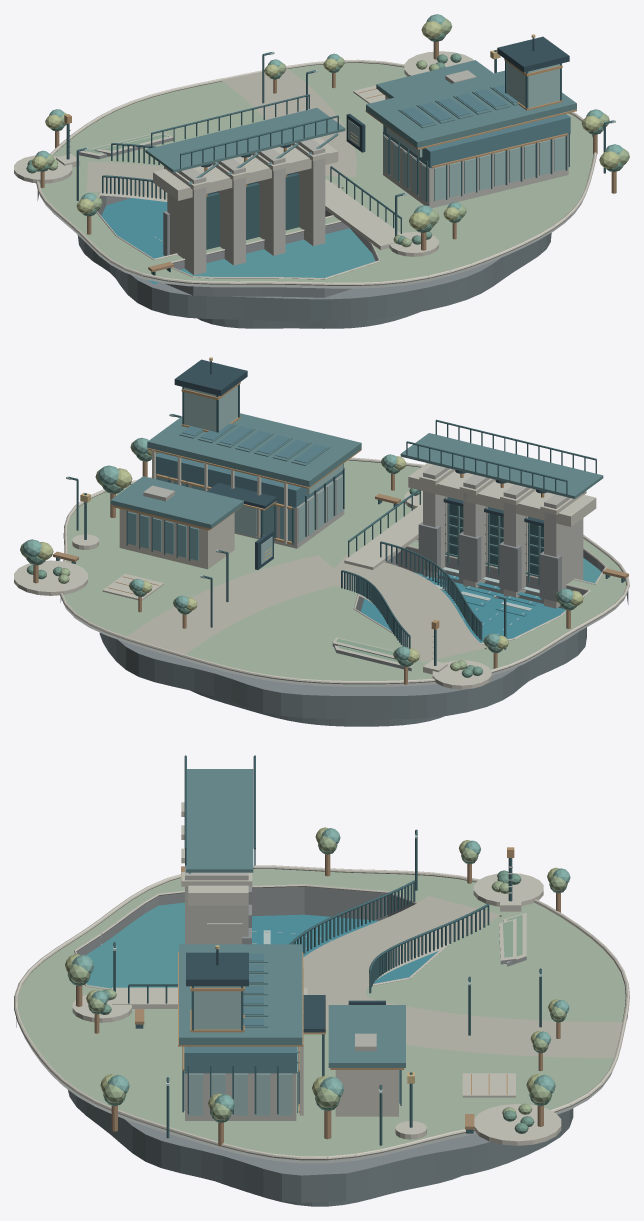
File: G_V5_hydraulic_campus_design.glb
3 renders of one model, top to bottom at view 1: azimuth 30°, elevation 25°; view 2: azimuth 150°, elevation 25°; view 3: azimuth 270°, elevation 25°, orthographic. The views are drawn at different scales.
Visible parts, largest first — view 1: 0240_actual dry grass with two water voids, 0652_command cantilever roof, 0613_hoist service catwalk, 0334_upstream basin water, 0768_protected S21 4.8 public promenade, 0651_upper command glazed volume, 0536_major dam pier concrete, 0612_massive dam bridge crossbeam, 0370_downstream flood basin water, 0650_control centre ground podium, 0557_major dam pier concrete, 0550_major dam pier concrete (+30 smaller); view 2: 0240_actual dry grass with two water voids, 0768_protected S21 4.8 public promenade, 0652_command cantilever roof, 0870_protected S22 4.8 public promenade, 0613_hoist service catwalk, 0749_emergency centre wing roof, 0612_massive dam bridge crossbeam, 0370_downstream flood basin water, 0094_floating bedrock mid stratum, 0747_emergency services annex, 0651_upper command glazed volume, 0536_major dam pier concrete (+24 smaller); view 3: 0240_actual dry grass with two water voids, 0870_protected S22 4.8 public promenade, 0768_protected S21 4.8 public promenade, 0613_hoist service catwalk, 0652_command cantilever roof, 0334_upstream basin water, 0749_emergency centre wing roof, 0094_floating bedrock mid stratum, 0651_upper command glazed volume, 0557_major dam pier concrete, 0370_downstream flood basin water, 0747_emergency services annex (+22 smaller).
Boxes of the visible parts, left/top/right/bottom form: 0240_actual dry grass with two water voids: left=40, top=63, right=593, bottom=282; 0652_command cantilever roof: left=366, top=70, right=576, bottom=148; 0613_hoist service catwalk: left=145, top=108, right=345, bottom=172; 0334_upstream basin water: left=180, top=228, right=375, bottom=277; 0768_protected S21 4.8 public promenade: left=221, top=68, right=356, bottom=176; 0651_upper command glazed volume: left=383, top=114, right=570, bottom=168; 0536_major dam pier concrete: left=167, top=168, right=206, bottom=275; 0612_massive dam bridge crossbeam: left=153, top=137, right=338, bottom=200; 0370_downstream flood basin water: left=101, top=198, right=167, bottom=283; 0650_control centre ground podium: left=383, top=134, right=568, bottom=208; 0557_major dam pier concrete: left=297, top=139, right=325, bottom=245; 0550_major dam pier concrete: left=257, top=148, right=285, bottom=255; 0240_actual dry grass with two water voids: left=63, top=460, right=626, bottom=680; 0768_protected S21 4.8 public promenade: left=127, top=555, right=349, bottom=654; 0652_command cantilever roof: left=147, top=413, right=361, bottom=487; 0870_protected S22 4.8 public promenade: left=325, top=555, right=485, bottom=662; 0613_hoist service catwalk: left=400, top=433, right=603, bottom=498; 0749_emergency centre wing roof: left=110, top=476, right=243, bottom=528; 0612_massive dam bridge crossbeam: left=408, top=463, right=596, bottom=526; 0370_downstream flood basin water: left=360, top=572, right=565, bottom=642; 0094_floating bedrock mid stratum: left=118, top=632, right=577, bottom=695; 0747_emergency services annex: left=119, top=509, right=234, bottom=569; 0651_upper command glazed volume: left=156, top=452, right=343, bottom=507; 0536_major dam pier concrete: left=544, top=494, right=583, bottom=608; 0240_actual dry grass with two water voids: left=18, top=869, right=625, bottom=1156; 0870_protected S22 4.8 public promenade: left=303, top=896, right=500, bottom=1008; 0768_protected S21 4.8 public promenade: left=326, top=994, right=622, bottom=1057; 0613_hoist service catwalk: left=185, top=769, right=253, bottom=872; 0652_command cantilever roof: left=179, top=944, right=302, bottom=1044; 0334_upstream basin water: left=85, top=902, right=184, bottom=988; 0749_emergency centre wing roof: left=328, top=1005, right=405, bottom=1067; 0094_floating bedrock mid stratum: left=124, top=1119, right=490, bottom=1175; 0651_upper command glazed volume: left=184, top=1046, right=296, bottom=1073; 0557_major dam pier concrete: left=185, top=868, right=248, bottom=944; 0370_downstream flood basin water: left=252, top=914, right=438, bottom=983; 0747_emergency services annex: left=335, top=1070, right=398, bottom=1116.
Bounding box in the file's own units: 39.04 × 16.72 × 34.7.
